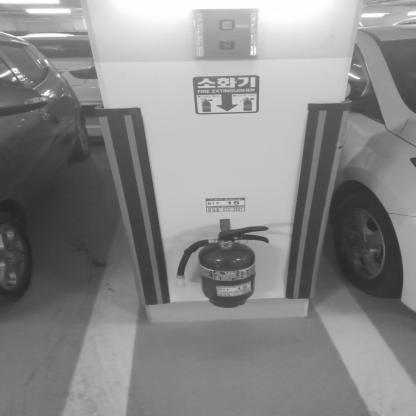FE: (174, 226, 269, 308)
